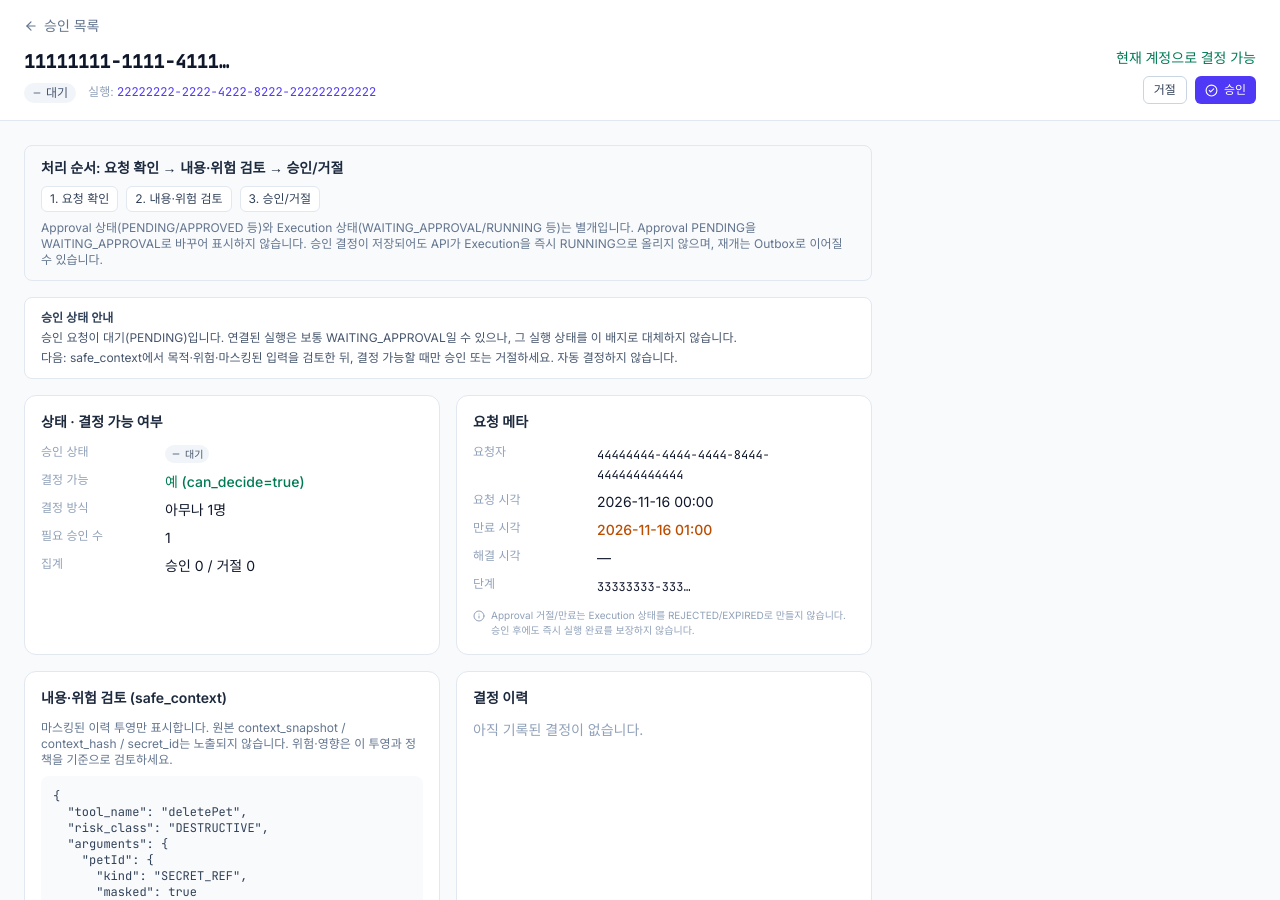
ApprovalDetail decide (phase 2) › does not claim success on network uncertainty
Expected: the text "현재 계정으로 결정 가능" is shown, [1116,48,1256,68]
Click the button "승인". click: point(1225, 90)
box: [1195,76,1256,104]
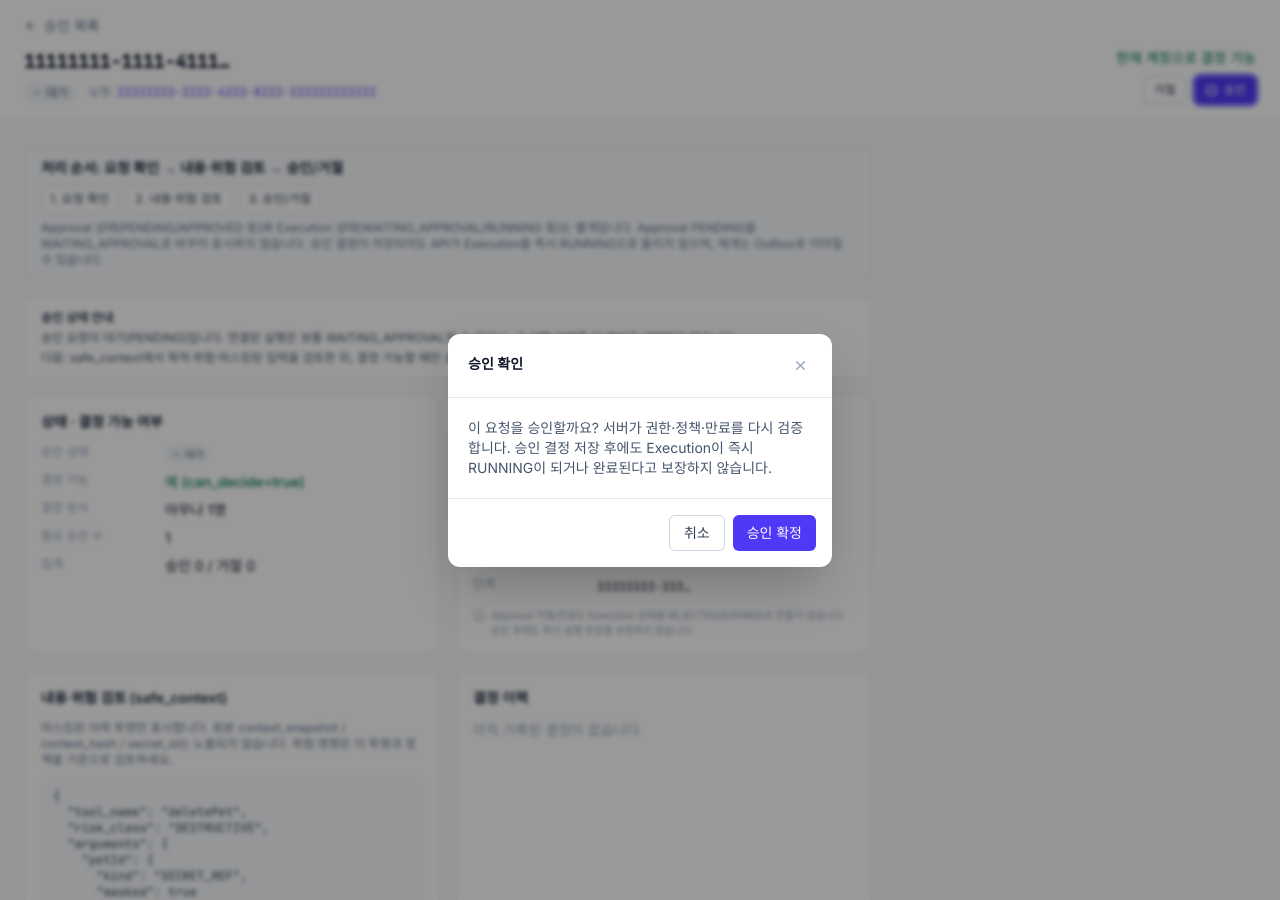
Click the button "승인 확정". click: point(774, 532)
box: [733,514,816,550]
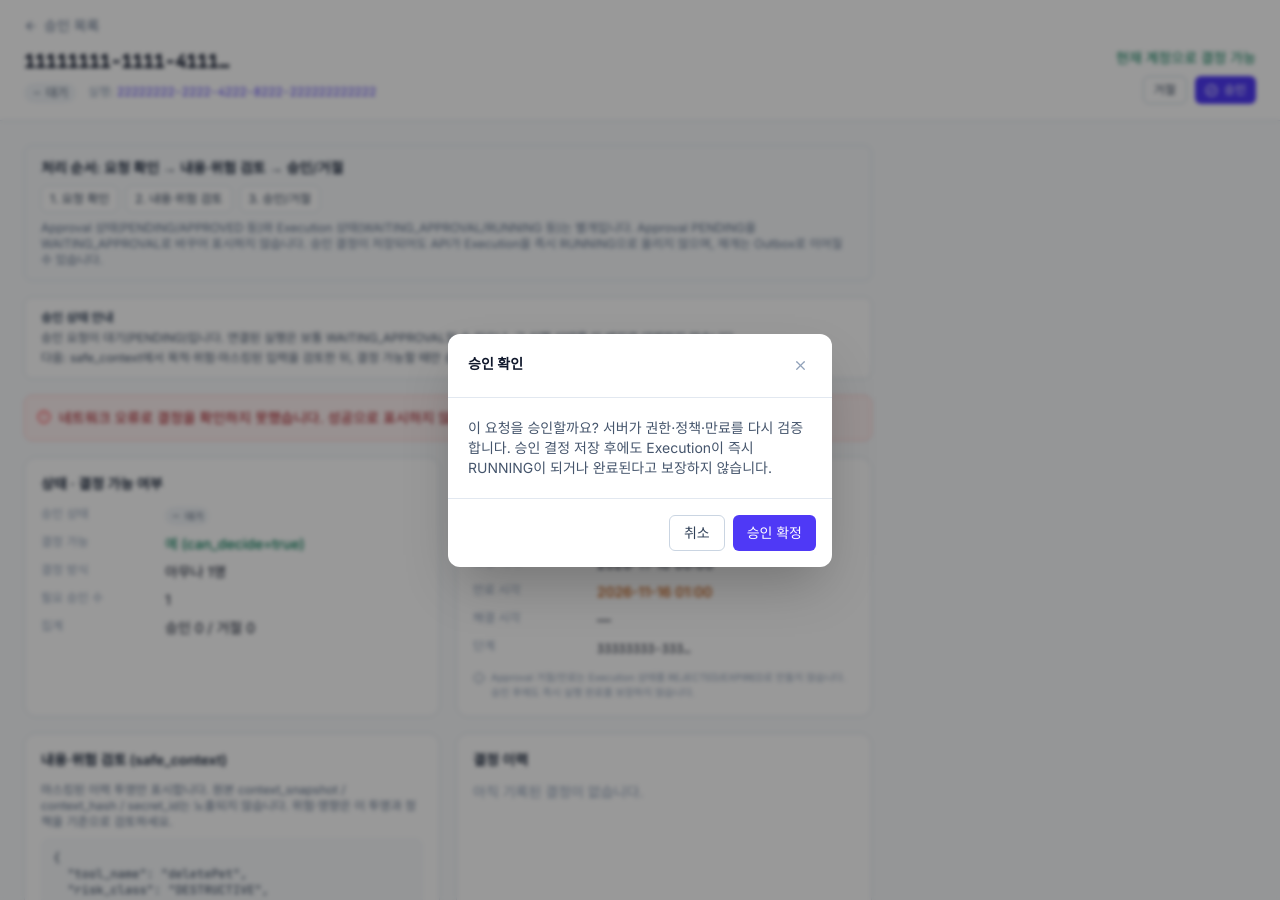
Expected: the text "성공으로 표시하지 않습니다" is shown, [59,409,720,426]
